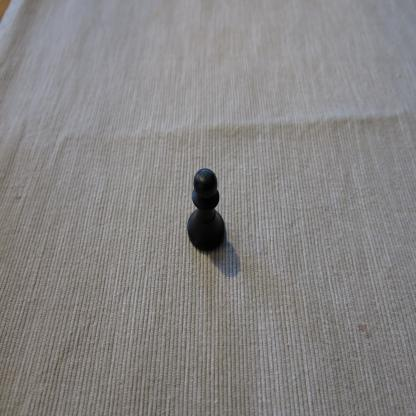black-pawn: (186, 167, 226, 253)
